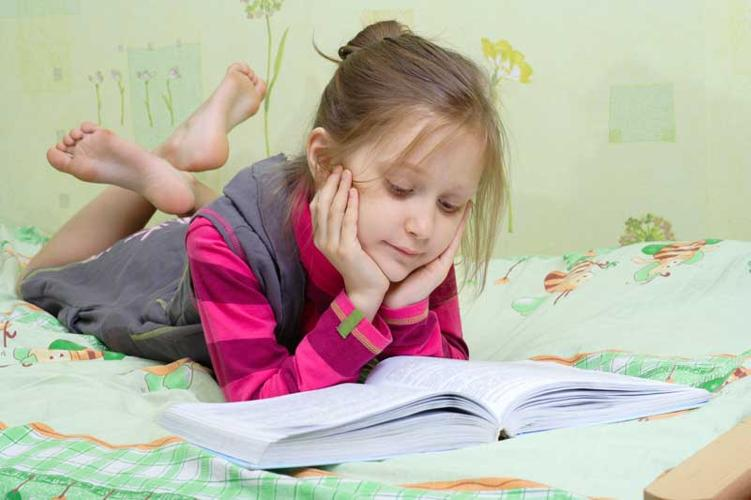person: (21, 22, 499, 406)
